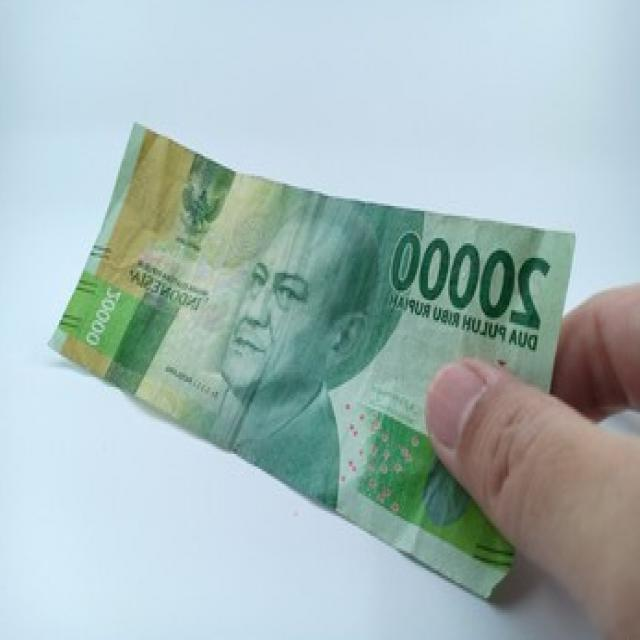dua puluh ribu rupiah: (42, 124, 571, 604)
